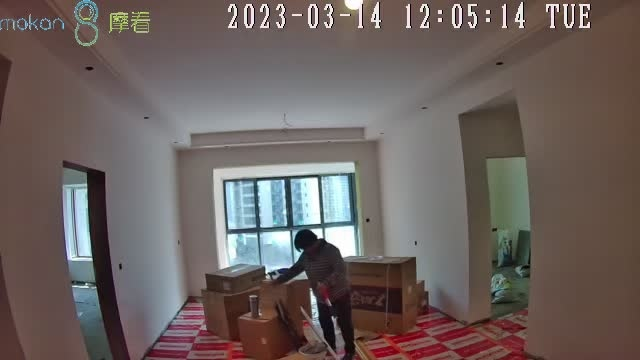people: (281, 227, 355, 360)
window: (224, 175, 358, 268)
